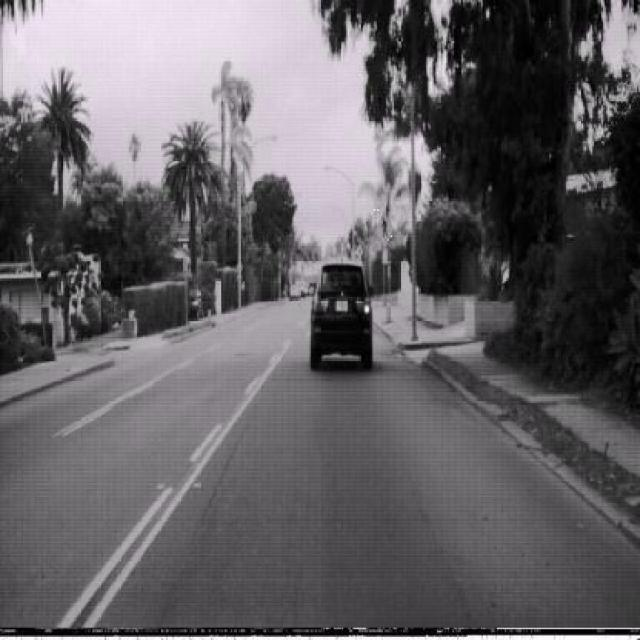pedestrianCrossing: (374, 210, 393, 248)
